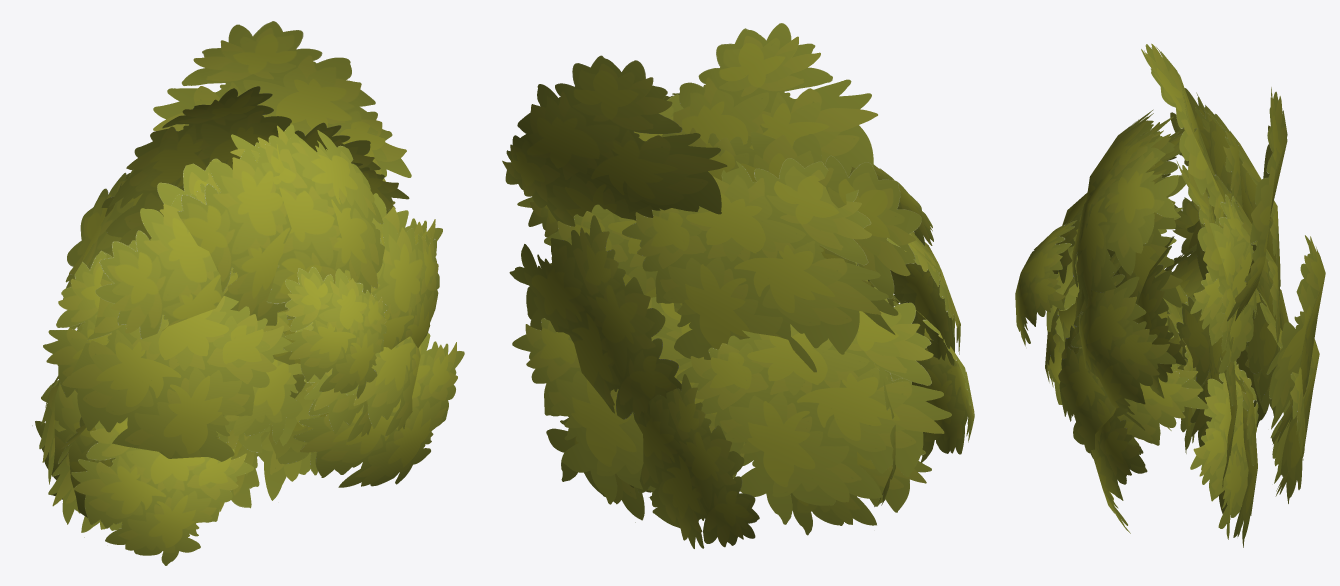
File: WG_Foliage.fbx
The picture shows the model from 3 angles, left to right: view 1: azimuth 30°, elevation 25°; view 2: azimuth 150°, elevation 25°; view 3: azimuth 270°, elevation 25°; orthographic projection. The views are drawn at different scales.
Parts seen in each view (by area): view 1: WG_Foliage_03, WG_Foliage_04, WG_Foliage_02, WG_Foliage_05, WG_Foliage_01; view 2: WG_Foliage_04, WG_Foliage_05, WG_Foliage_03, WG_Foliage_01, WG_Foliage_02; view 3: WG_Foliage_03, WG_Foliage_05, WG_Foliage_02, WG_Foliage_01, WG_Foliage_04.
Boxes of the visible parts, <box> form: WG_Foliage_03: <box>95,21,439,398</box>; WG_Foliage_04: <box>39,333,464,565</box>; WG_Foliage_02: <box>57,122,442,462</box>; WG_Foliage_05: <box>43,124,420,436</box>; WG_Foliage_01: <box>32,311,371,517</box>; WG_Foliage_04: <box>512,281,974,535</box>; WG_Foliage_05: <box>509,85,955,421</box>; WG_Foliage_03: <box>502,23,933,245</box>; WG_Foliage_01: <box>544,204,895,548</box>; WG_Foliage_02: <box>517,94,960,498</box>; WG_Foliage_03: <box>1015,43,1287,430</box>; WG_Foliage_05: <box>1058,105,1325,476</box>; WG_Foliage_02: <box>1046,88,1242,487</box>; WG_Foliage_01: <box>1061,172,1319,539</box>; WG_Foliage_04: <box>1045,197,1305,547</box>.
Size of the model in its own units: 1318 by 1469 by 847.
